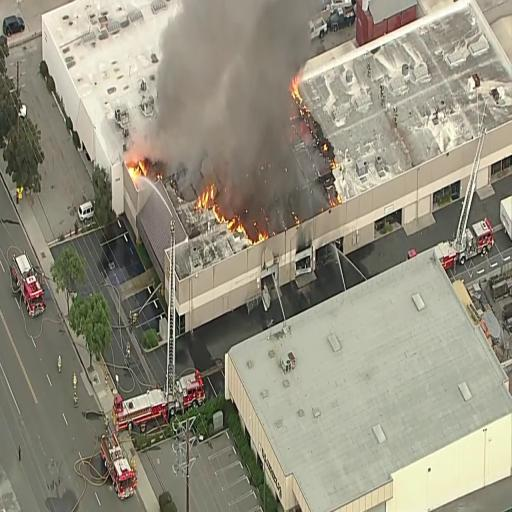smoke: (195, 0, 272, 133)
